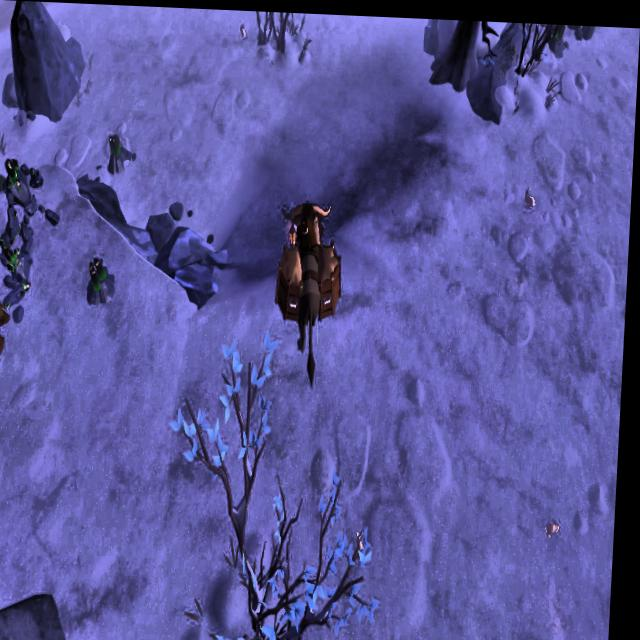depletedmobOre_t3: (0, 239, 41, 324)
enemy_factionKeeper: (0, 277, 13, 369)
mobOre_t3: (0, 146, 67, 251)
ore_t3: (88, 251, 115, 300), (107, 124, 132, 171), (546, 19, 570, 54)
